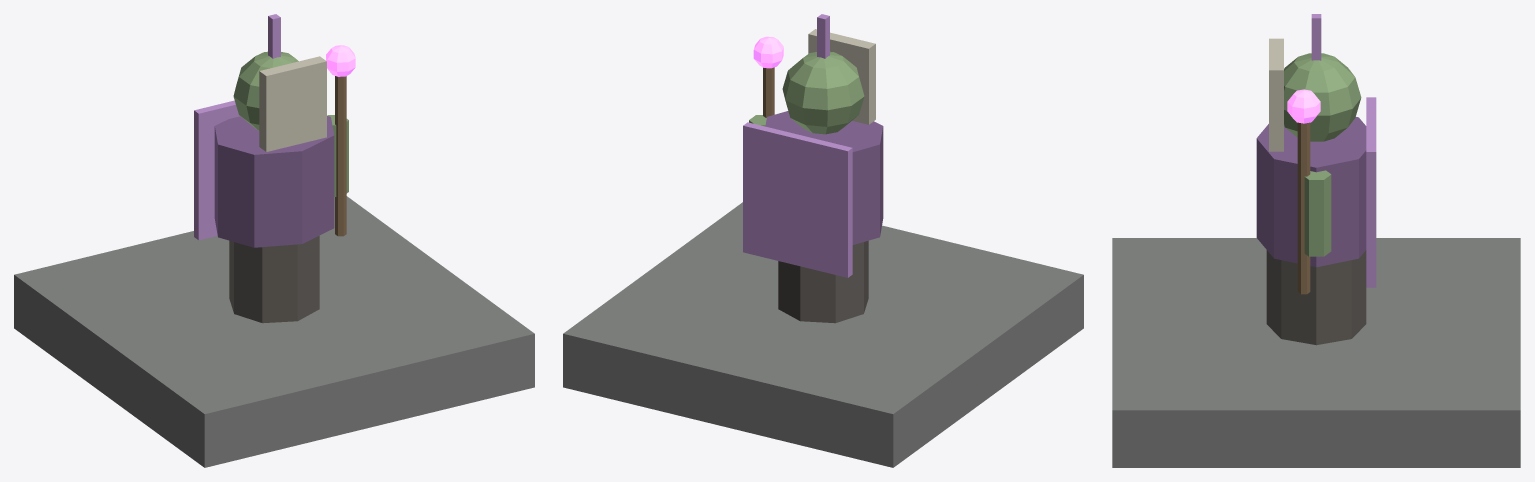
The model's file is orc_witch_doctor.glb.
The picture shows the model from 3 angles, left to right: view 1: azimuth 30°, elevation 25°; view 2: azimuth 150°, elevation 25°; view 3: azimuth 270°, elevation 25°; orthographic projection. The views are drawn at different scales.
Parts seen in each view (by area): view 1: Base, TurretMesh, ArmMesh, Orb; view 2: Base, TurretMesh, Orb, ArmMesh; view 3: Base, TurretMesh, ArmMesh, Orb.
Boxes of the visible parts, <box> form: Base: <box>14,196,534,467</box>; TurretMesh: <box>194,14,334,323</box>; ArmMesh: <box>327,76,348,236</box>; Orb: <box>326,45,355,76</box>; Base: <box>563,202,1083,467</box>; TurretMesh: <box>743,14,883,323</box>; Orb: <box>753,36,783,68</box>; ArmMesh: <box>749,67,774,126</box>; Base: <box>1112,238,1520,467</box>; TurretMesh: <box>1256,14,1376,345</box>; ArmMesh: <box>1297,122,1331,294</box>; Orb: <box>1287,89,1320,123</box>.
Bounding box in the file's own units: 1.8 × 1.78 × 1.8.
